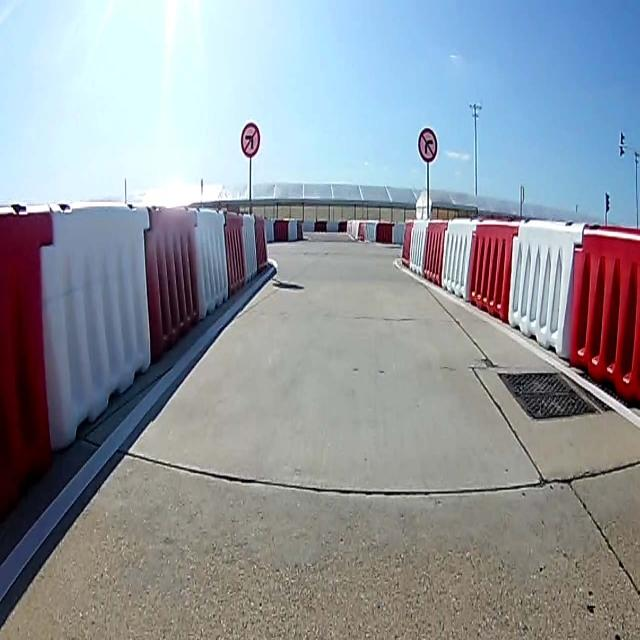sagadonulmez: (418, 127, 437, 165)
soladonulmez: (242, 124, 260, 160)
